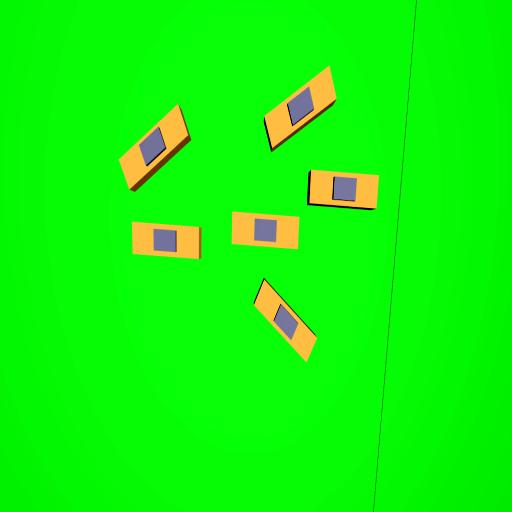objects: (253, 64, 348, 147), (108, 104, 198, 189), (245, 281, 325, 363), (129, 221, 202, 260), (308, 170, 379, 210), (230, 212, 300, 250)
